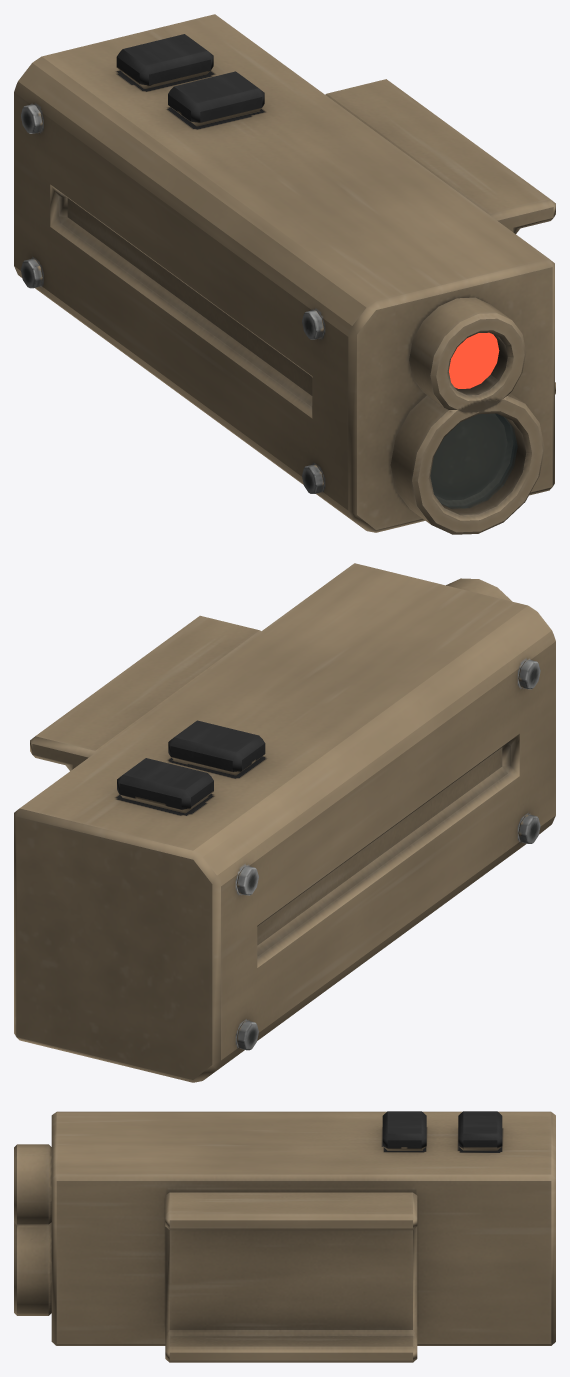
File: laser.glb
3 renders of one model, top to bottom at view 1: azimuth 30°, elevation 25°; view 2: azimuth 150°, elevation 25°; view 3: azimuth 270°, elevation 25°, orthographic. The views are drawn at different scales.
Visible parts, largest first — view 1: laser, laser_glass; view 2: laser; view 3: laser.
Part boxes in pixels (x1,y1,x2,y2): laser: (14, 14, 555, 534); laser_glass: (430, 332, 517, 508); laser: (14, 563, 555, 1082); laser: (14, 1111, 555, 1362).
Size of the model in its own units: 0.0397 by 0.033 by 0.086.
Materials: 3 (1 with a texture image).
